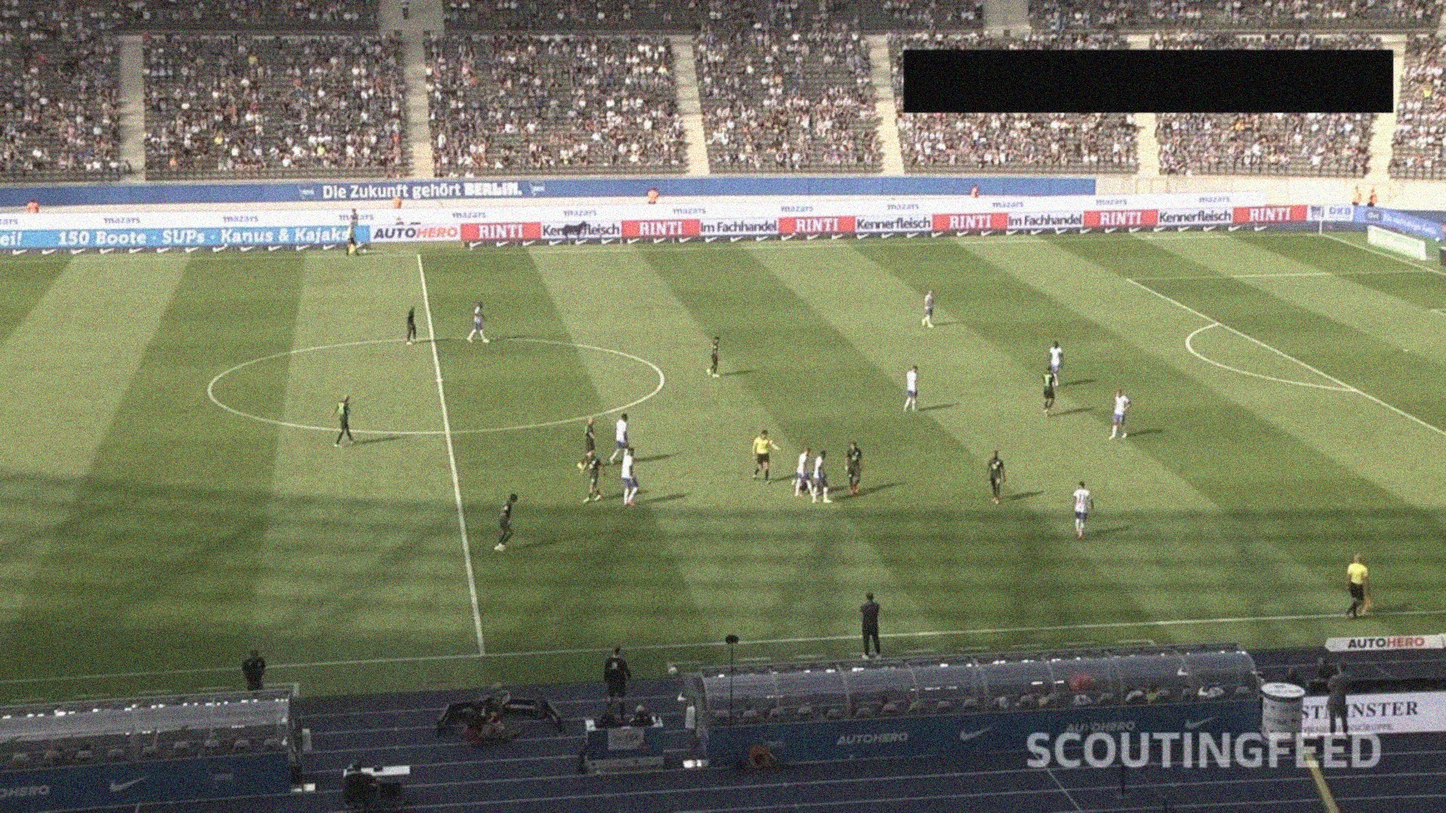player: (490, 491, 524, 556), (328, 389, 356, 449), (613, 446, 640, 507), (578, 446, 604, 507), (1071, 479, 1097, 539), (806, 446, 831, 507), (606, 413, 634, 466), (1103, 387, 1130, 441), (986, 452, 1008, 512), (843, 441, 865, 494), (578, 416, 599, 470), (1039, 366, 1061, 417), (466, 299, 490, 345), (792, 446, 811, 498), (904, 366, 922, 415), (920, 288, 939, 330), (706, 333, 722, 379), (1049, 340, 1063, 387), (404, 306, 418, 348)
referee: (748, 429, 784, 486), (1344, 550, 1374, 618), (343, 218, 363, 259)
